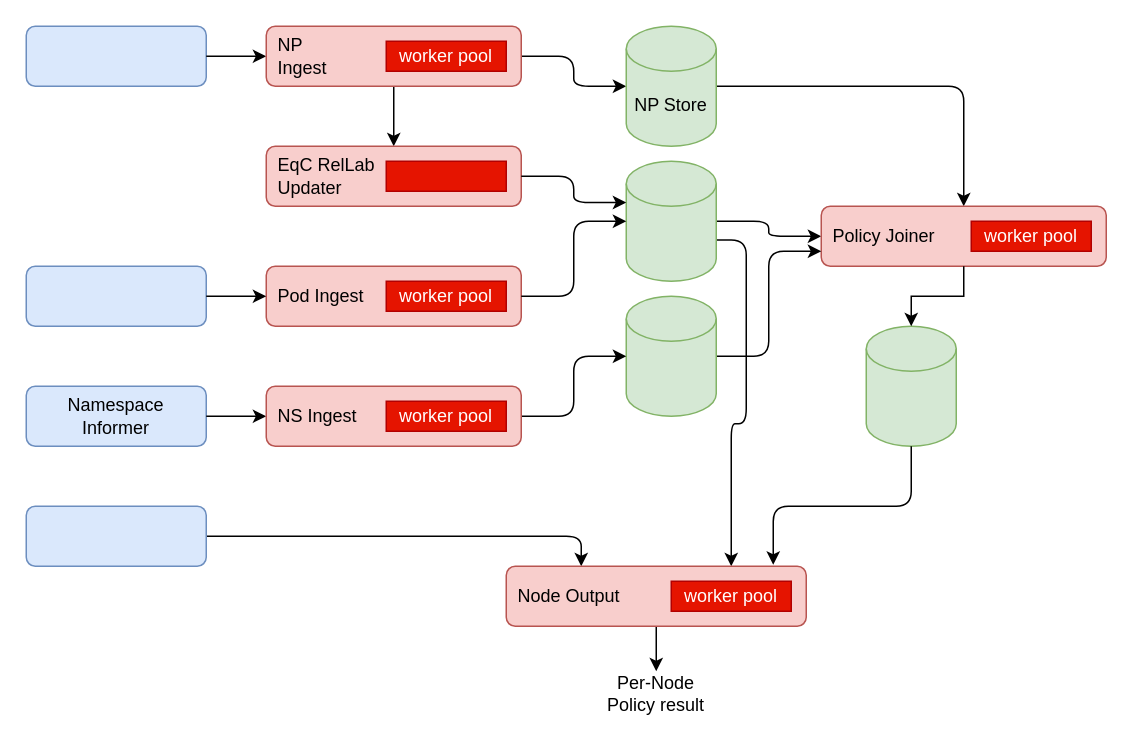
This 1133x743 diagram has some shape labels left out. The shapes that lost their labels are listed below. From the top down, each one's centre as x and y in pixels, then its label:
At point (115, 55): "Network Policy Informer".
At point (445, 175): "update thread".
At point (670, 220): "Pod Store".
At point (115, 295): "Pod Informer".
At point (670, 355): "NS Store".
At point (910, 385): "Policy Results".
At point (115, 535): "Node Informer".
